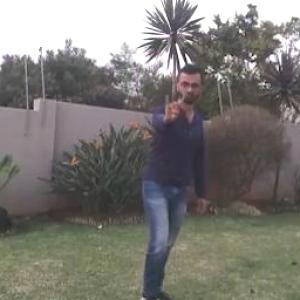takeoff-hand: (157, 81, 188, 126)
